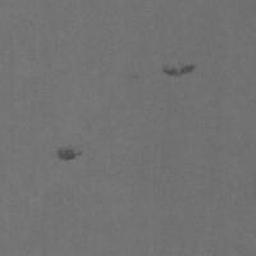Inclusion: (160, 63, 195, 77), (58, 147, 82, 159)
